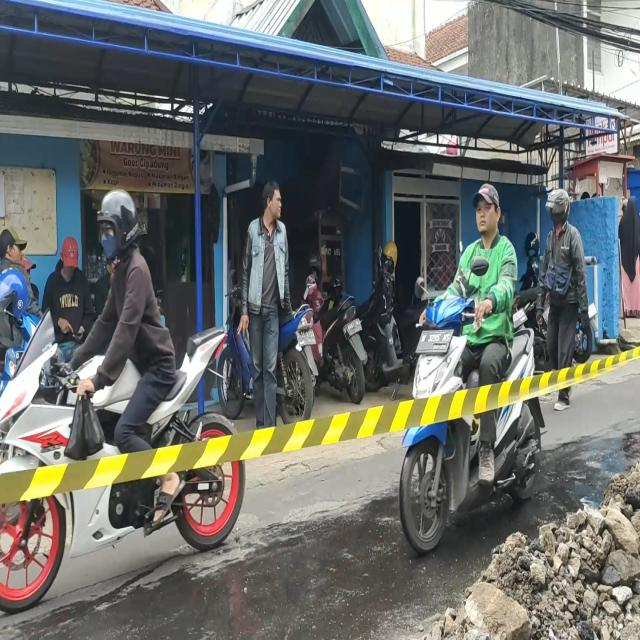helmet: (100, 196, 138, 244)
no-helmet: (476, 182, 498, 236)
